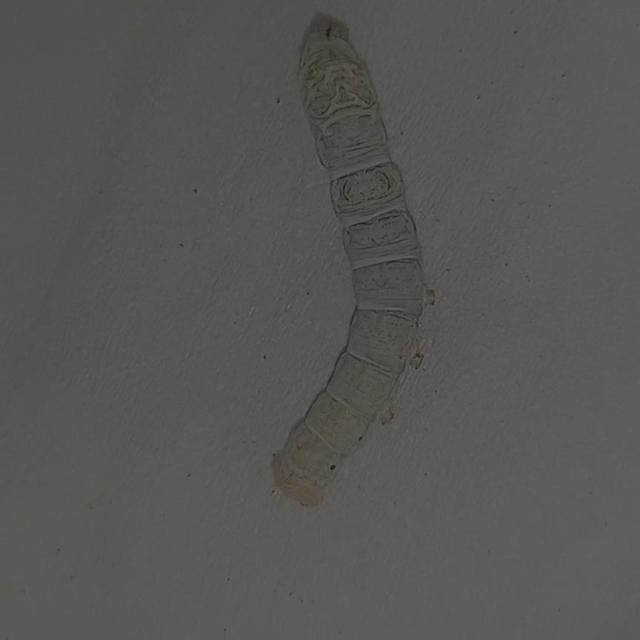Healthy: (252, 0, 477, 534)
